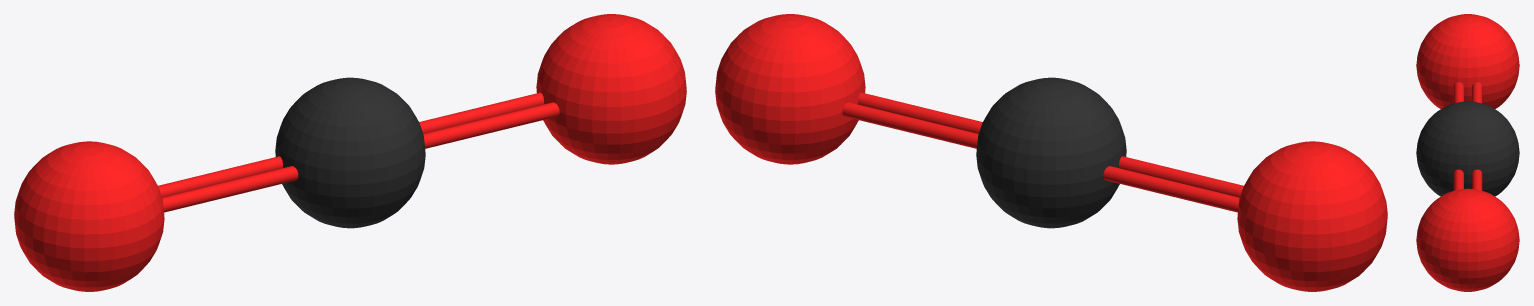
The model's file is carbon_dioxide.fbx.
3 views of the same model, side by side, from view 1: azimuth 30°, elevation 25°; view 2: azimuth 150°, elevation 25°; view 3: azimuth 270°, elevation 25° (orthographic). The views are drawn at different scales.
Visible parts, largest first — view 1: carbon_dioxide; view 2: carbon_dioxide; view 3: carbon_dioxide.
Part boxes in pixels (<box>): carbon_dioxide: <box>14,14,686,291</box>; carbon_dioxide: <box>715,14,1387,291</box>; carbon_dioxide: <box>1416,14,1519,291</box>.
Bounding box in the file's own units: 180 × 36 × 36.
